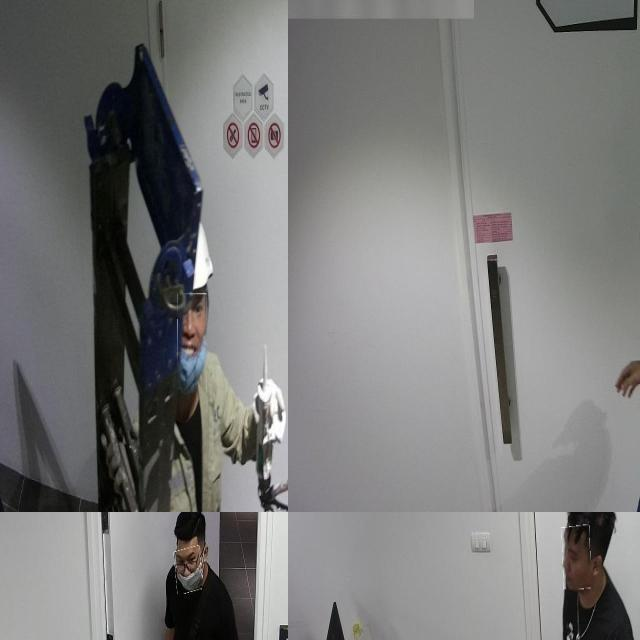hairnet: (177, 293, 207, 394), (174, 546, 202, 594)
